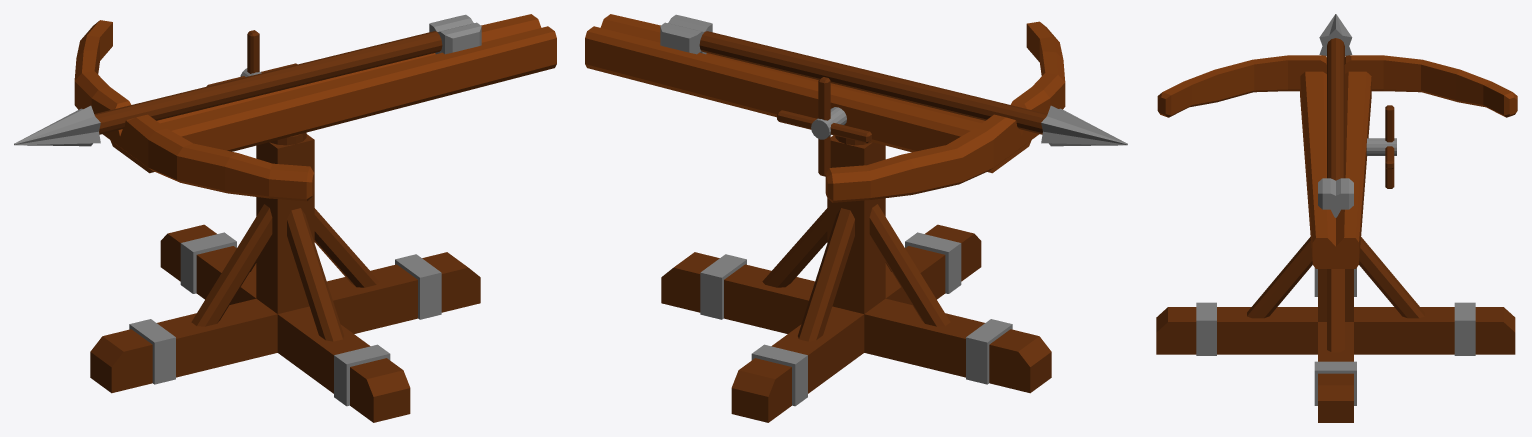
3 views of the same model, side by side, from view 1: azimuth 30°, elevation 25°; view 2: azimuth 150°, elevation 25°; view 3: azimuth 270°, elevation 25° (orthographic). The views are drawn at different scales.
Parts seen in each view (by area): view 1: Base Ballista, Bow Part, Arrow, Starter, Cylinder; view 2: Base Ballista, Bow Part, Arrow, Cylinder, Starter; view 3: Base Ballista, Bow Part, Arrow, Cylinder, Starter.
Part boxes in pixels (box(x1,y1,x2,y2)): Base Ballista: box(90, 132, 480, 422); Bow Part: box(74, 14, 556, 201); Arrow: box(14, 31, 442, 146); Starter: box(429, 14, 481, 54); Cylinder: box(206, 30, 297, 86); Base Ballista: box(661, 135, 1051, 422); Bow Part: box(585, 14, 1065, 202); Arrow: box(699, 31, 1127, 146); Cylinder: box(777, 77, 871, 176); Starter: box(660, 14, 712, 54); Base Ballista: box(1156, 237, 1515, 422); Bow Part: box(1157, 55, 1517, 268); Arrow: box(1319, 14, 1352, 180); Cylinder: box(1366, 105, 1396, 188); Starter: box(1318, 178, 1353, 217).
Size of the model in its own units: 573 by 296 by 402.
